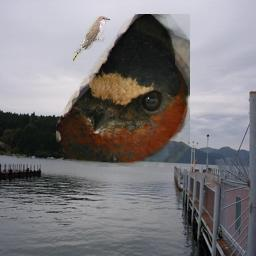Cuckoo: (72, 16, 111, 61)
Swallow: (56, 14, 190, 167)
